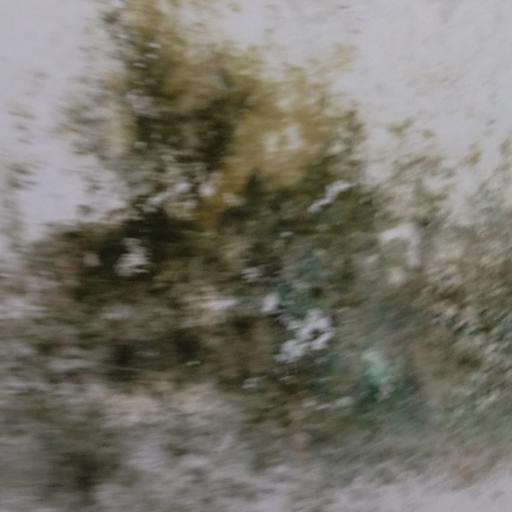algae: (33, 26, 512, 502)
